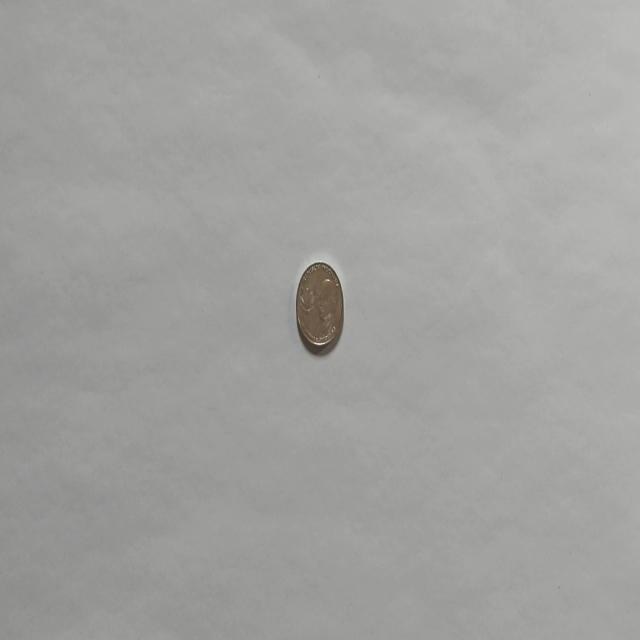lima ratus rupiah: (294, 260, 344, 352)
